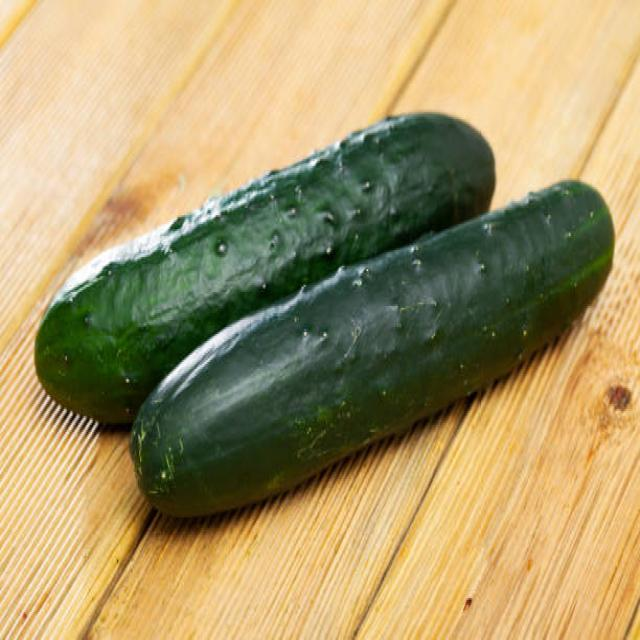cucumber: (34, 109, 616, 519)
